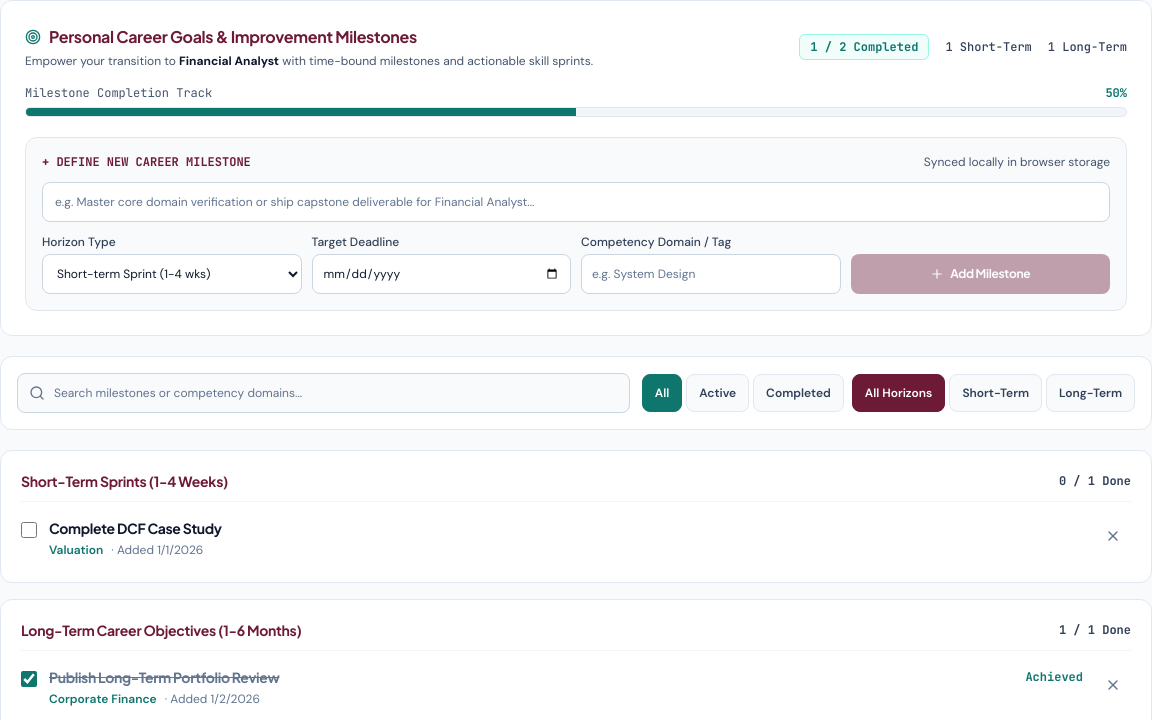
Test case: GoalsTab accessibility, filtering & CRUD › connects labels to inputs, filters goals, and supports adding and deleting milestones
The image size is (1152, 720).
Later steps or results of the test are not shown.
Type "Pass Financial Modeling Exam" into the field labelled "+ DEFINE NEW CAREER MILESTONE" at (576, 202), box x1=42 y1=182 x2=1110 y2=222
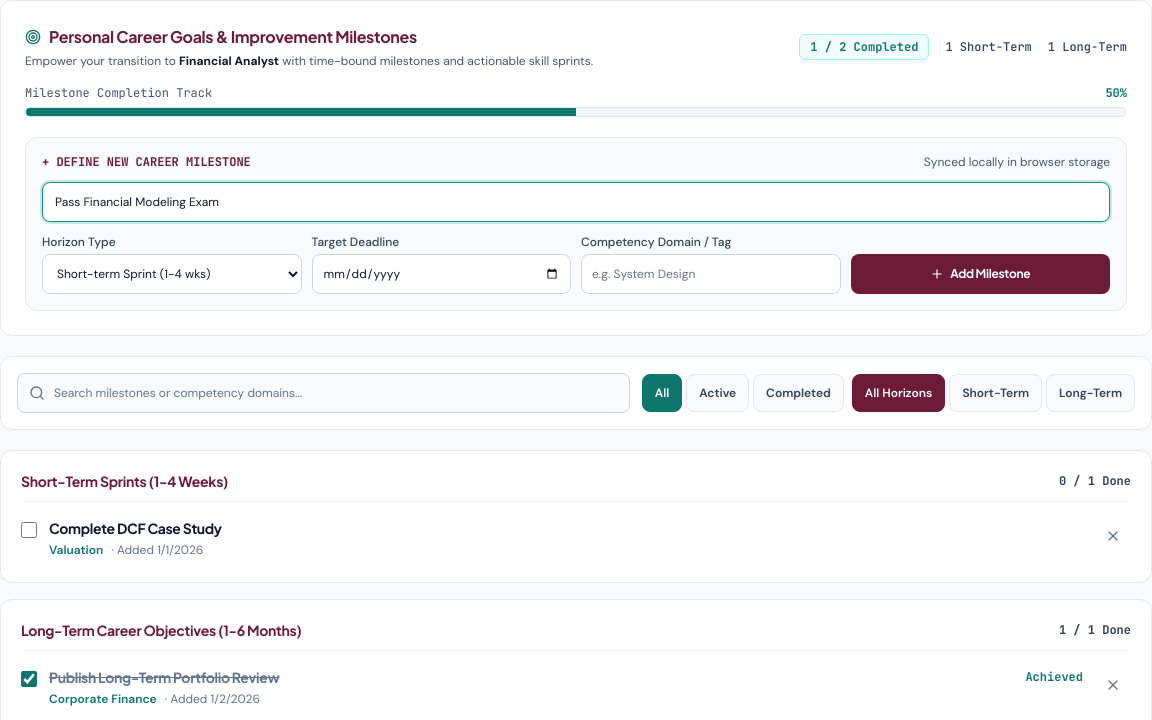
Click the button "Add Milestone" at (980, 274), box x1=850 y1=254 x2=1110 y2=294
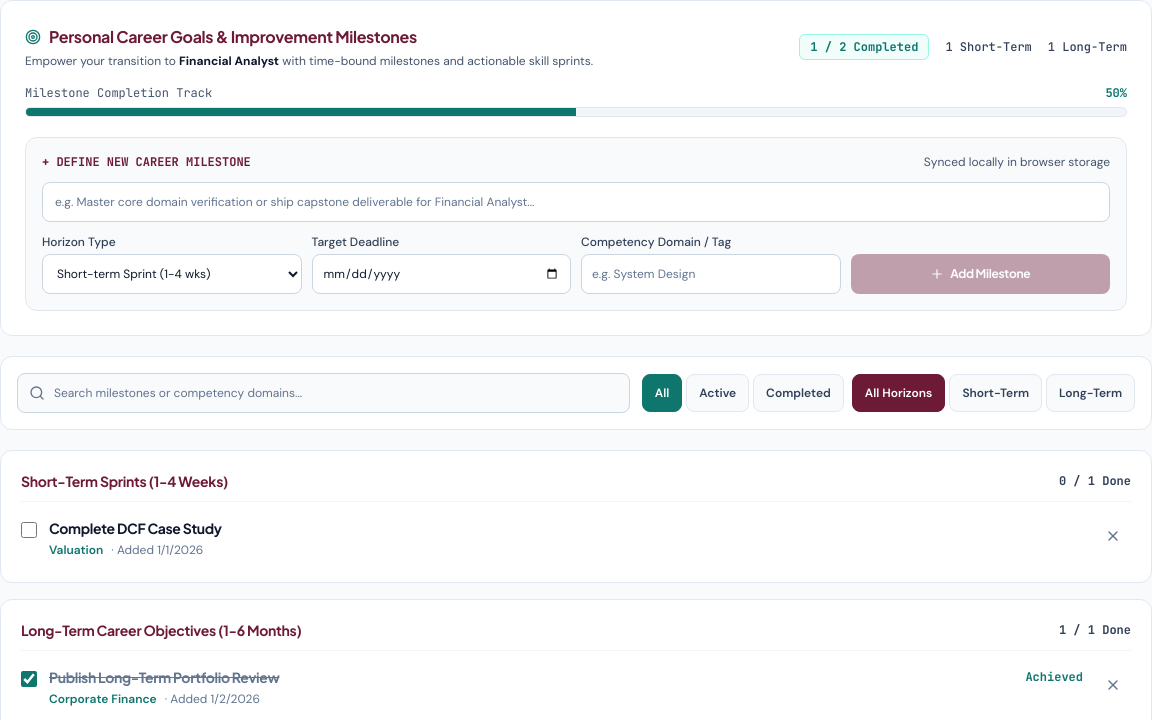
Type "Portfolio" into the field labelled "Search milestones or competency domains..." at (323, 393), box x1=17 y1=373 x2=630 y2=413
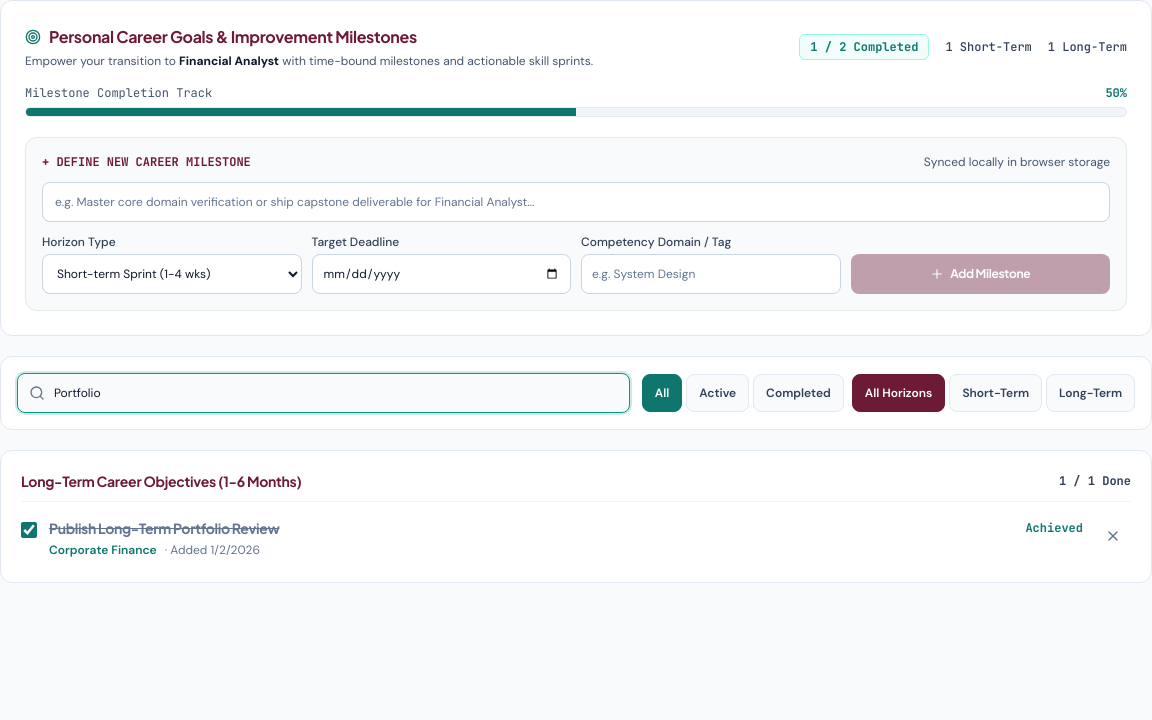
Expected: the text "Publish Long-Term Portfolio Review" is shown, x1=49 y1=518 x2=279 y2=538
Now the text "Complete DCF Case Study" is gone
